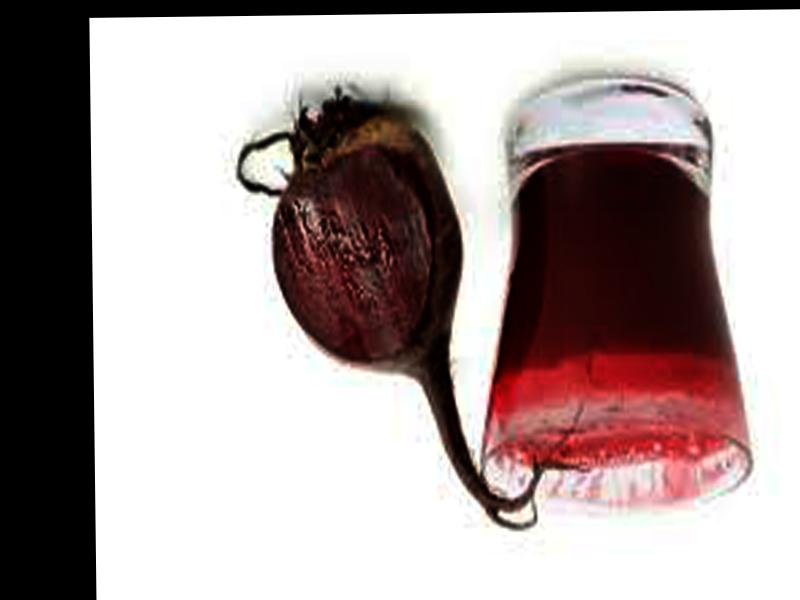Beet: (237, 90, 577, 533)
